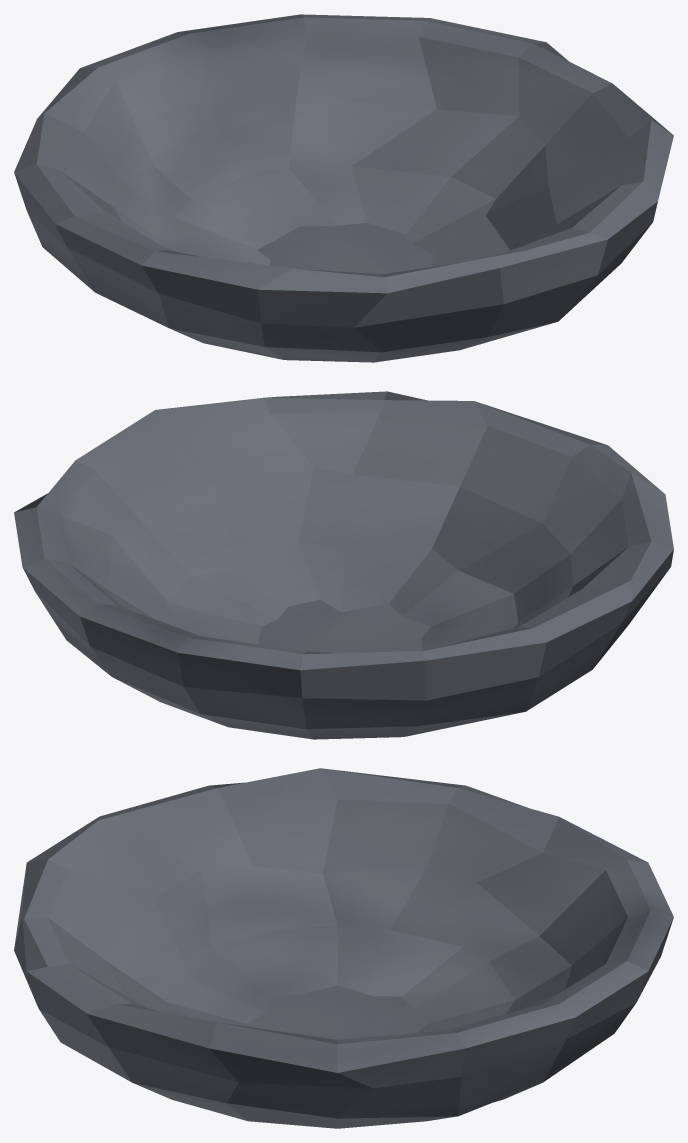
The model's file is Collin_StoneBowl01.fbx.
3 renders of one model, top to bottom at view 1: azimuth 30°, elevation 25°; view 2: azimuth 150°, elevation 25°; view 3: azimuth 270°, elevation 25°, orthographic.
Parts seen in each view (by area): view 1: bowl.001; view 2: bowl.001; view 3: bowl.001.
Boxes of the visible parts, x1,y1,x2,y2 form: bowl.001: (14,14,673,362); bowl.001: (14,391,673,739); bowl.001: (14,768,673,1128).
Bounding box in the file's own units: 24.37 × 6.5 × 24.38.
Materials: 1 (1 with a texture image).
